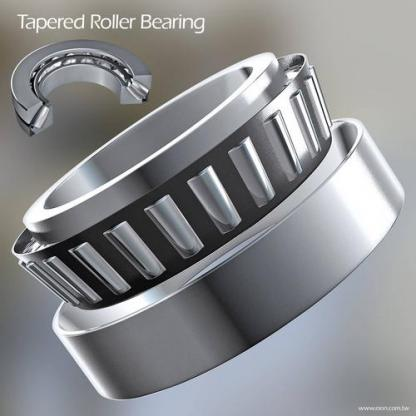FOD: (6, 33, 408, 407)
